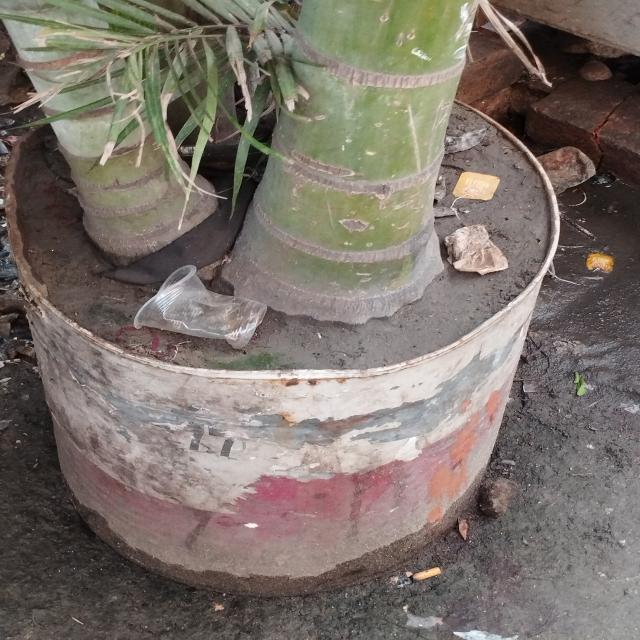plastic: (136, 267, 270, 349)
